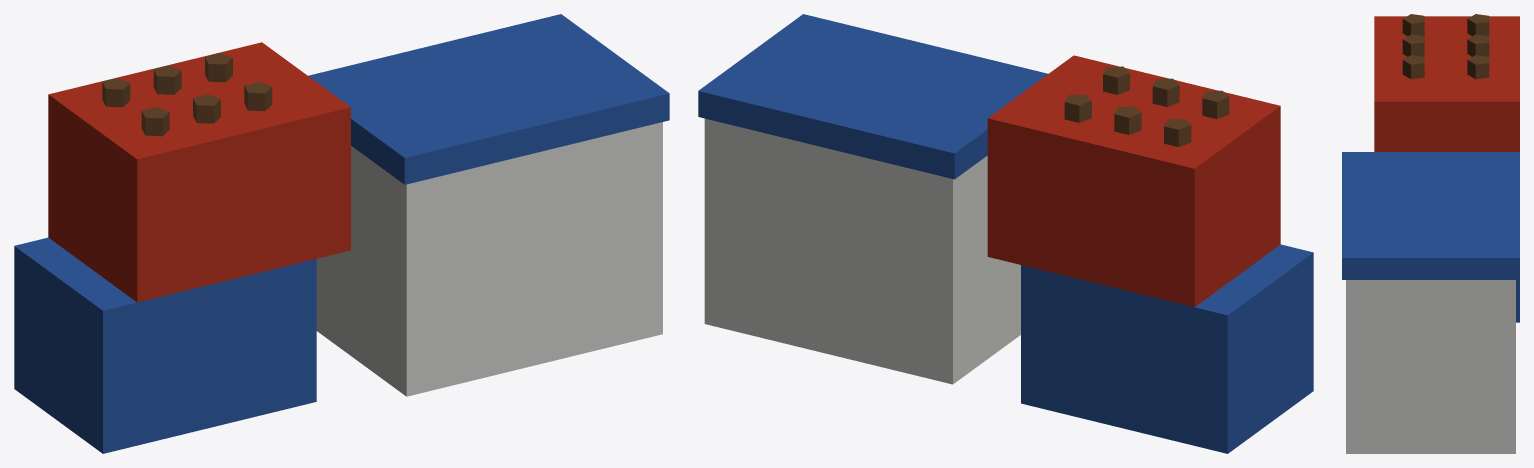
Rendered from prop_crates.glb.
3 views of the same model, side by side, from view 1: azimuth 30°, elevation 25°; view 2: azimuth 150°, elevation 25°; view 3: azimuth 270°, elevation 25° (orthographic). The views are drawn at different scales.
Parts seen in each view (by area): view 1: body; view 2: body; view 3: body.
Part boxes in pixels (<box>): body: <box>14,14,669,453</box>; body: <box>698,14,1313,453</box>; body: <box>1342,14,1519,453</box>.
Size of the model in its own units: 1.28 by 0.68 by 0.44.
